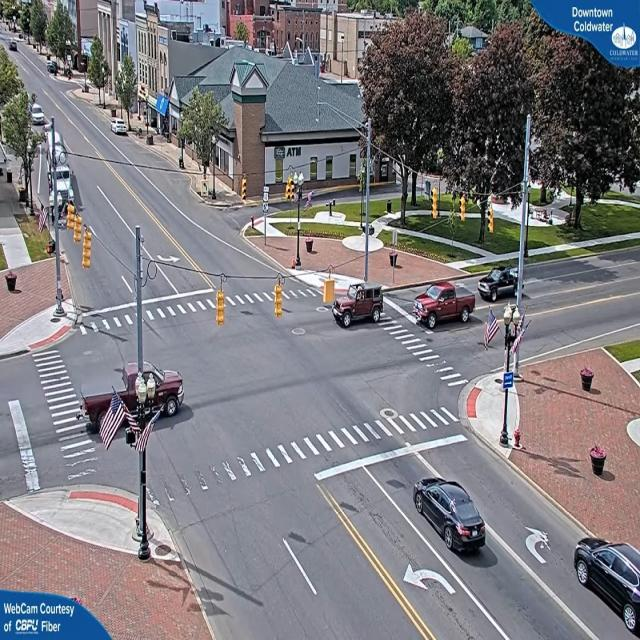car: (573, 536, 640, 638), (80, 362, 184, 422), (414, 480, 487, 558), (416, 282, 476, 328), (328, 282, 386, 328), (479, 269, 519, 303), (112, 119, 130, 136), (10, 42, 20, 54)
truck: (46, 131, 74, 217)
